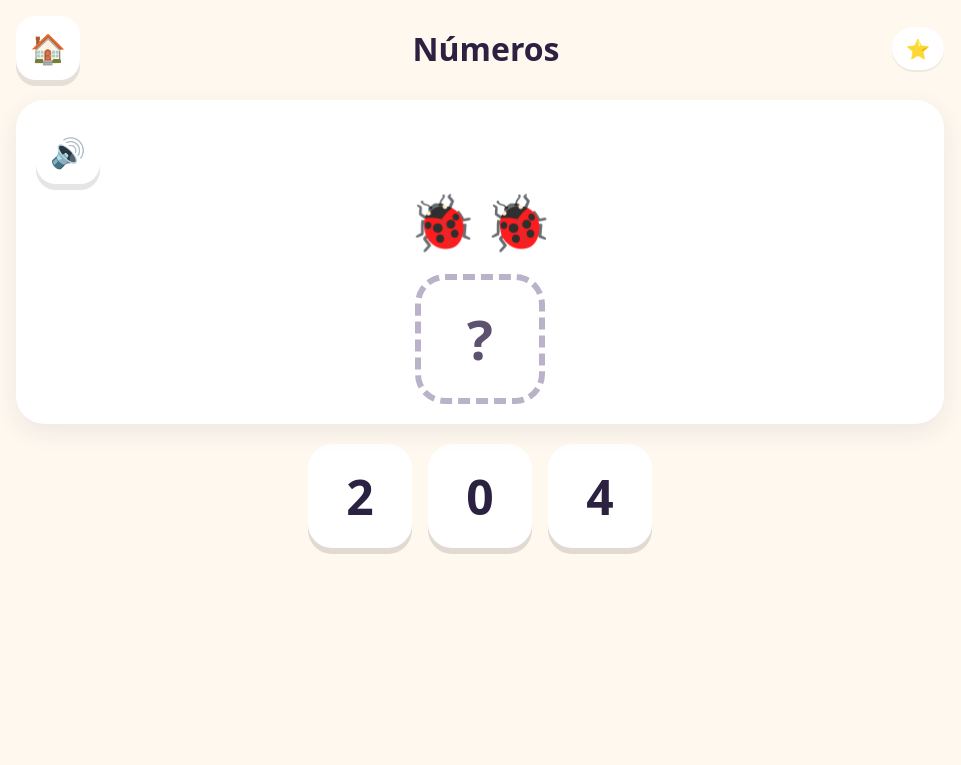
Test: NumbersModule › accepts the right answer and persists difficulty
What coordinates should you click on to do the following:
click the button "2"
I would click on:
 (360, 496)
Its box is [308, 444, 412, 548].
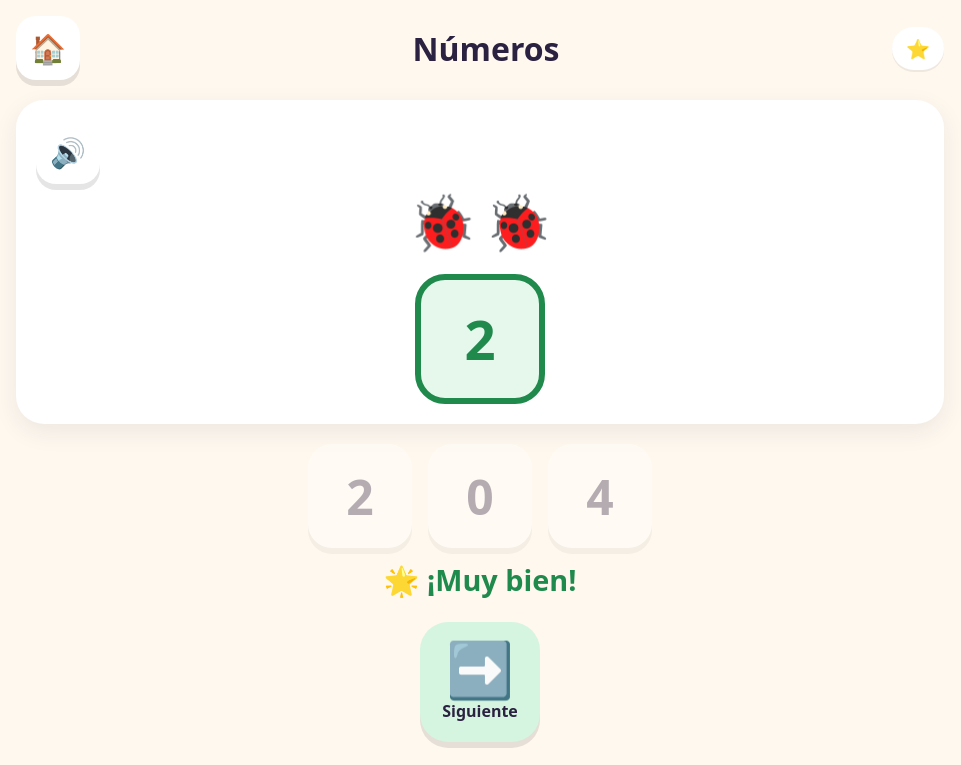
Expected: the text with test id "dropzone" reads "2", [464, 302, 496, 376]
Expected: the message with test id "feedback" shows "¡Muy bien!", [427, 560, 576, 599]
